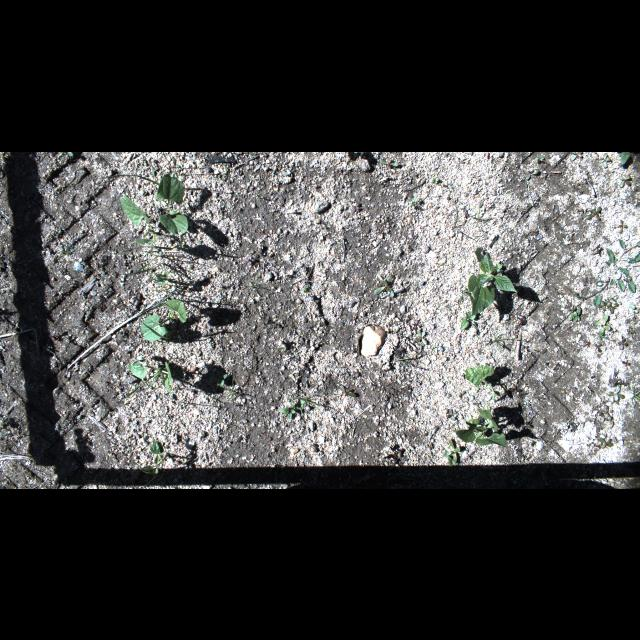crop: (468, 253, 518, 315), (138, 298, 190, 344), (154, 170, 188, 240), (454, 408, 506, 448), (127, 358, 175, 394), (120, 194, 156, 242), (466, 363, 496, 399), (140, 439, 164, 478)
weed: (584, 238, 640, 308), (105, 164, 161, 186), (120, 240, 186, 253), (133, 252, 165, 272), (442, 438, 462, 466), (374, 276, 396, 300), (592, 312, 614, 336), (598, 296, 624, 314), (487, 331, 513, 349), (596, 402, 614, 426), (607, 381, 627, 401), (280, 399, 300, 419), (521, 165, 543, 182), (412, 321, 428, 344), (461, 310, 479, 330), (151, 268, 169, 286), (586, 204, 604, 222), (514, 311, 534, 325), (616, 174, 632, 190), (596, 436, 614, 450), (566, 417, 584, 431), (427, 424, 439, 444), (620, 152, 634, 166), (301, 280, 315, 294), (296, 394, 310, 408), (596, 152, 612, 164), (338, 384, 356, 394), (410, 196, 424, 208), (617, 217, 629, 231), (618, 334, 628, 350), (218, 370, 228, 386), (572, 308, 582, 322), (430, 172, 440, 186), (447, 407, 457, 421), (622, 357, 634, 368), (380, 156, 396, 164), (566, 152, 582, 160), (630, 301, 638, 315), (530, 154, 546, 160), (454, 205, 458, 228)
